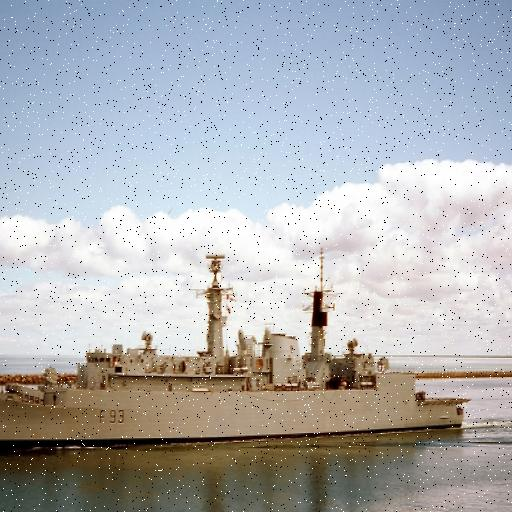Fragata: (1, 252, 466, 463)
